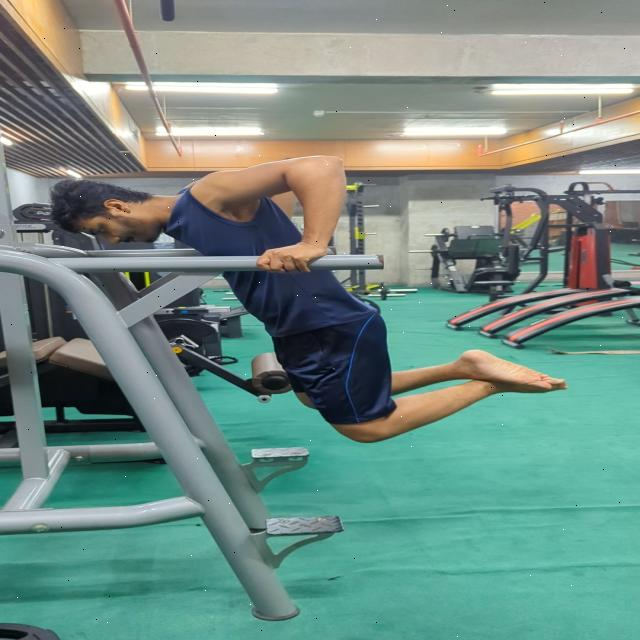Normal_Dips: (44, 148, 581, 450)
